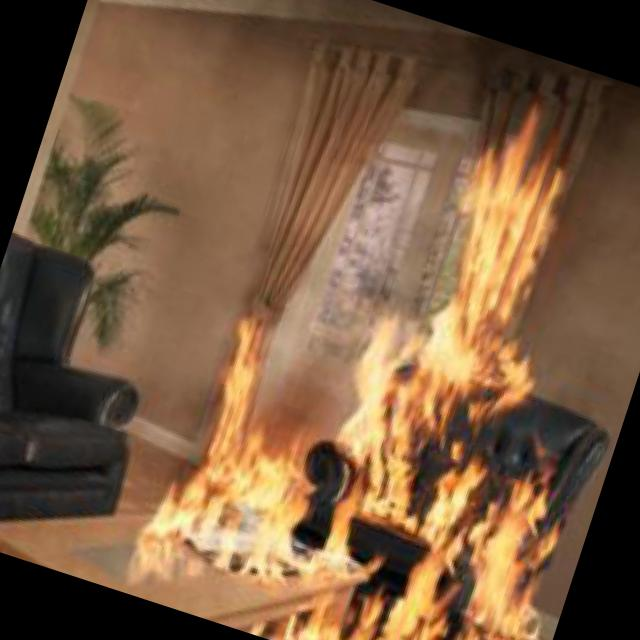fire: (128, 251, 625, 640), (418, 90, 603, 350)
